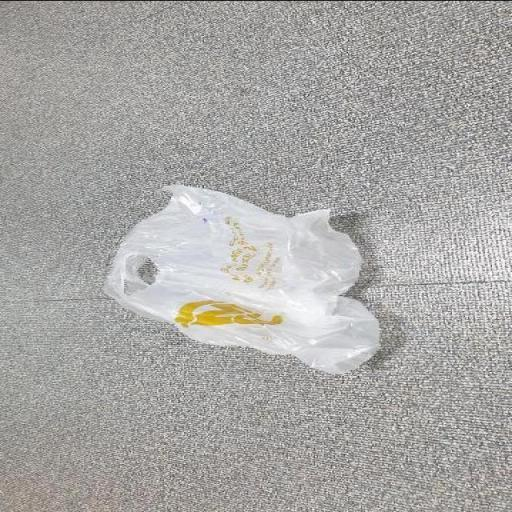plastic-bag: (97, 183, 385, 375)
